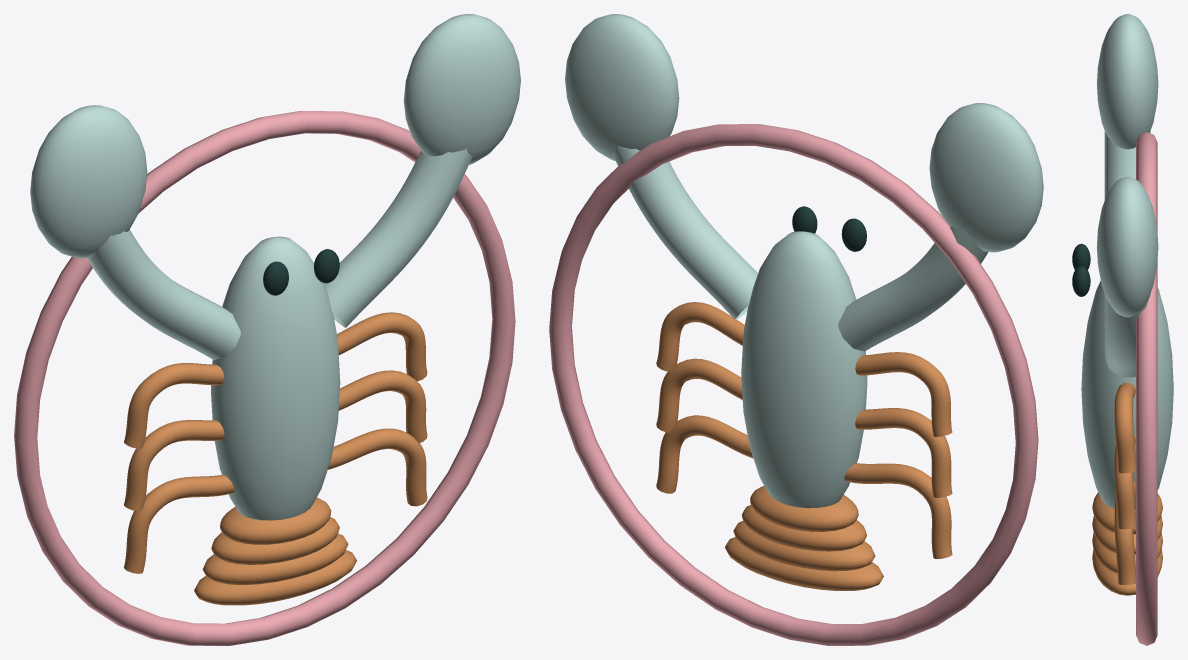
The picture shows the model from 3 angles, left to right: view 1: azimuth 30°, elevation 25°; view 2: azimuth 150°, elevation 25°; view 3: azimuth 270°, elevation 25°; orthographic projection. The views are drawn at different scales.
Visible parts, largest first — view 1: Neon halo, Lobster leg, Chrome lobster, Arm.001, Arm, Eye; view 2: Neon halo, Lobster leg, Chrome lobster, Arm.001, Arm, Eye; view 3: Neon halo, Arm.001, Chrome lobster, Arm, Lobster leg, Eye.
Part boxes in pixels (x1,y1,x2,y2): Neon halo: (14,111,515,645); Lobster leg: (124,312,427,605); Chrome lobster: (211,236,340,520); Arm.001: (324,14,520,327); Arm: (30,105,240,359); Eye: (263,249,339,295); Neon halo: (549,124,1038,645); Lobster leg: (656,302,952,590); Chrome lobster: (741,231,867,508); Arm.001: (565,14,757,319); Arm: (838,103,1043,351); Eye: (792,206,866,251); Neon halo: (1136,132,1157,645); Arm.001: (1097,176,1158,377); Chrome lobster: (1081,280,1173,509); Arm: (1096,14,1158,199); Lobster leg: (1092,382,1162,595); Eye: (1072,243,1090,296).
Bounding box in the file's own units: 0.668 × 0.749 × 0.132.
